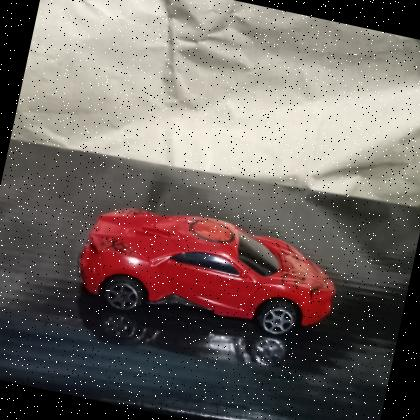Car: (63, 186, 352, 360)
